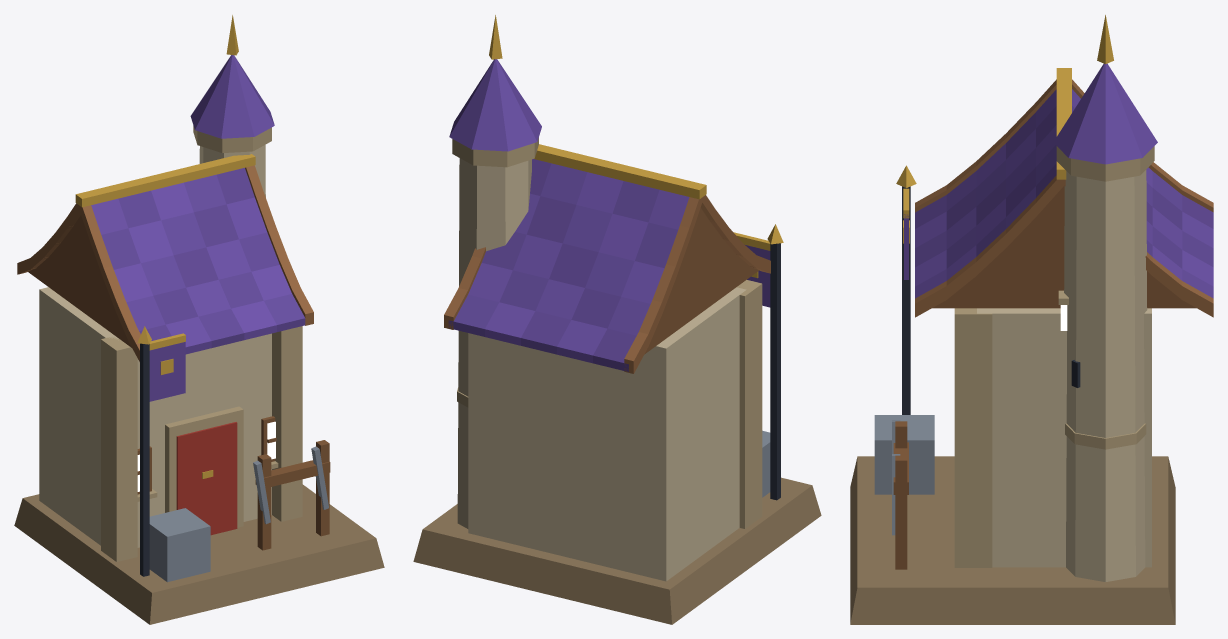
Rendered from camp_sniper_t2.glb.
The picture shows the model from 3 angles, left to right: view 1: azimuth 30°, elevation 25°; view 2: azimuth 150°, elevation 25°; view 3: azimuth 270°, elevation 25°; orthographic projection. The views are drawn at different scales.
Visible parts, largest first — view 1: body; view 2: body; view 3: body.
Boxes of the visible parts, <box> form: body: <box>14,15,384,624</box>; body: <box>413,15,821,624</box>; body: <box>850,15,1213,624</box>.
Size of the model in its own units: 1.9 by 3.75 by 2.12.
